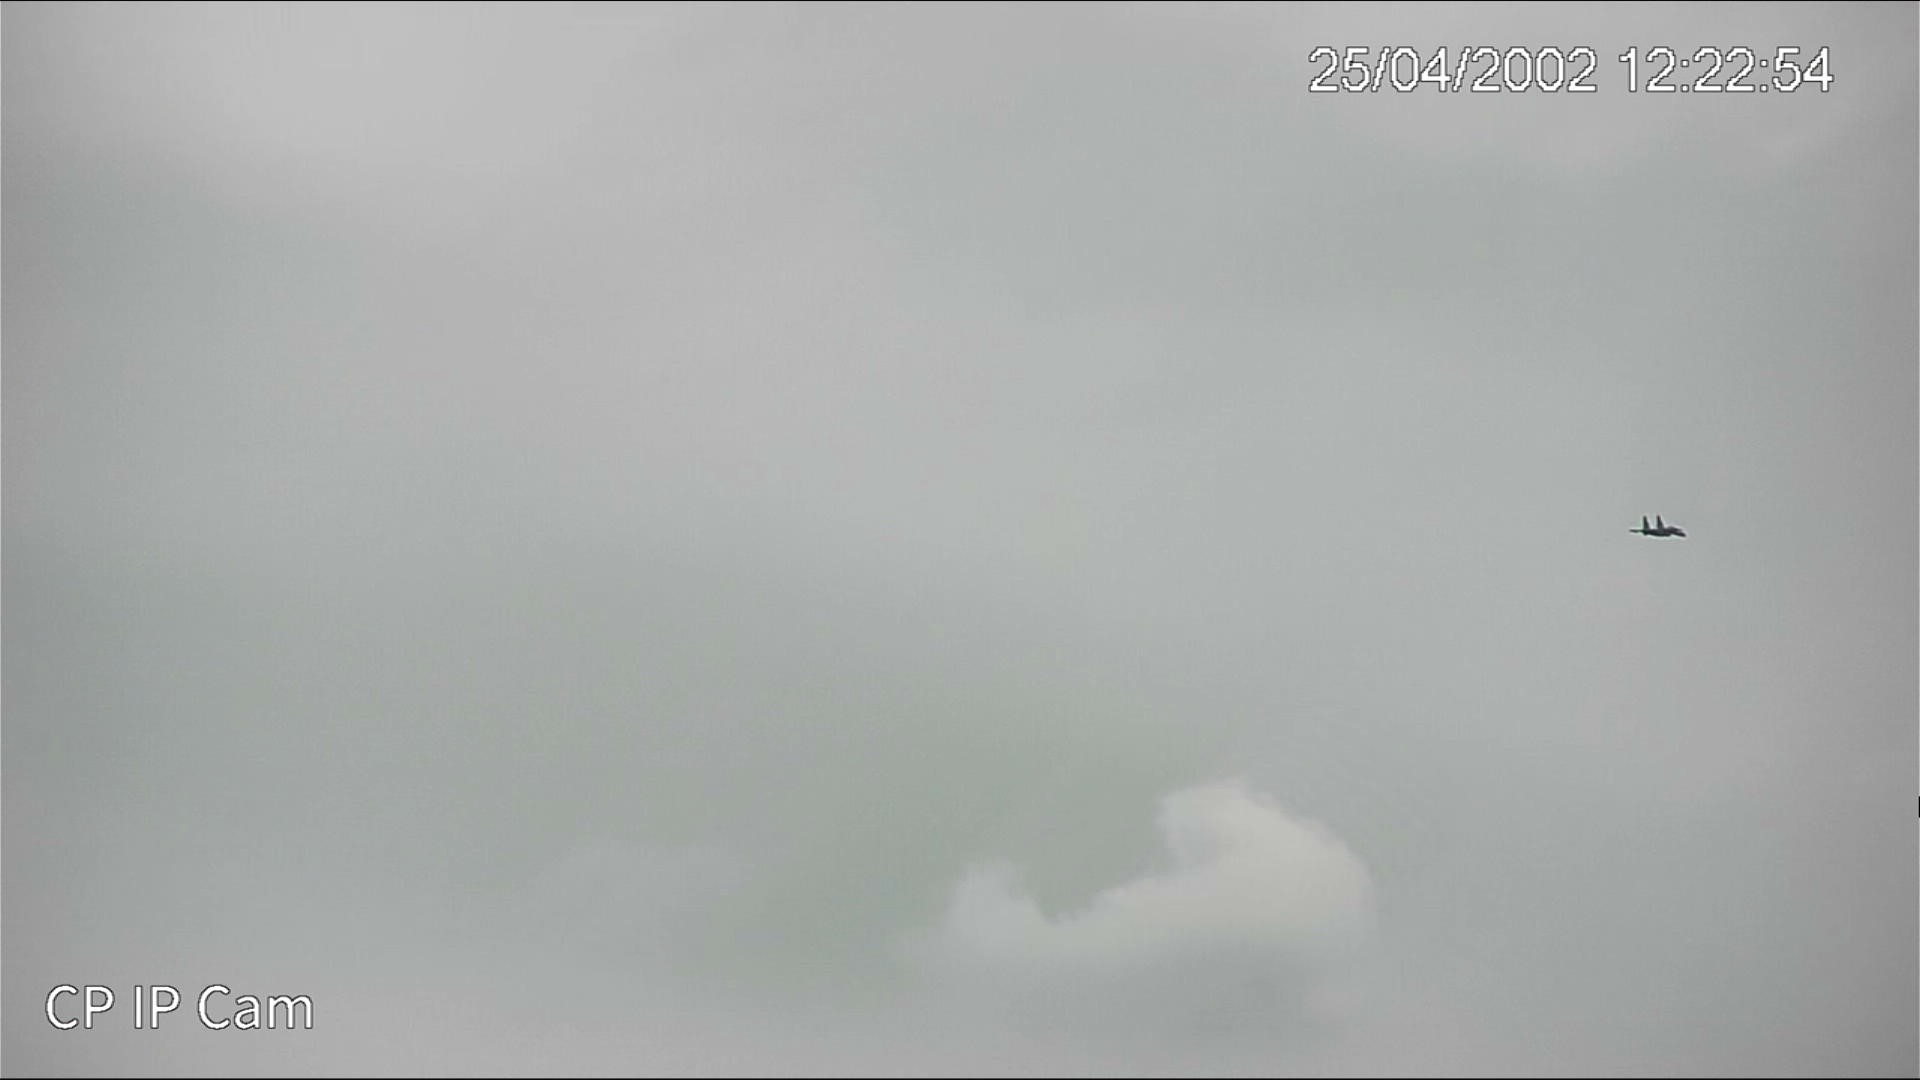SU_30: (1629, 516, 1687, 542)
